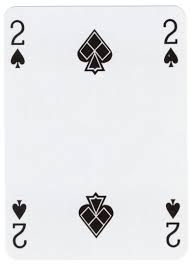two of clubs: (5, 7, 188, 260)
